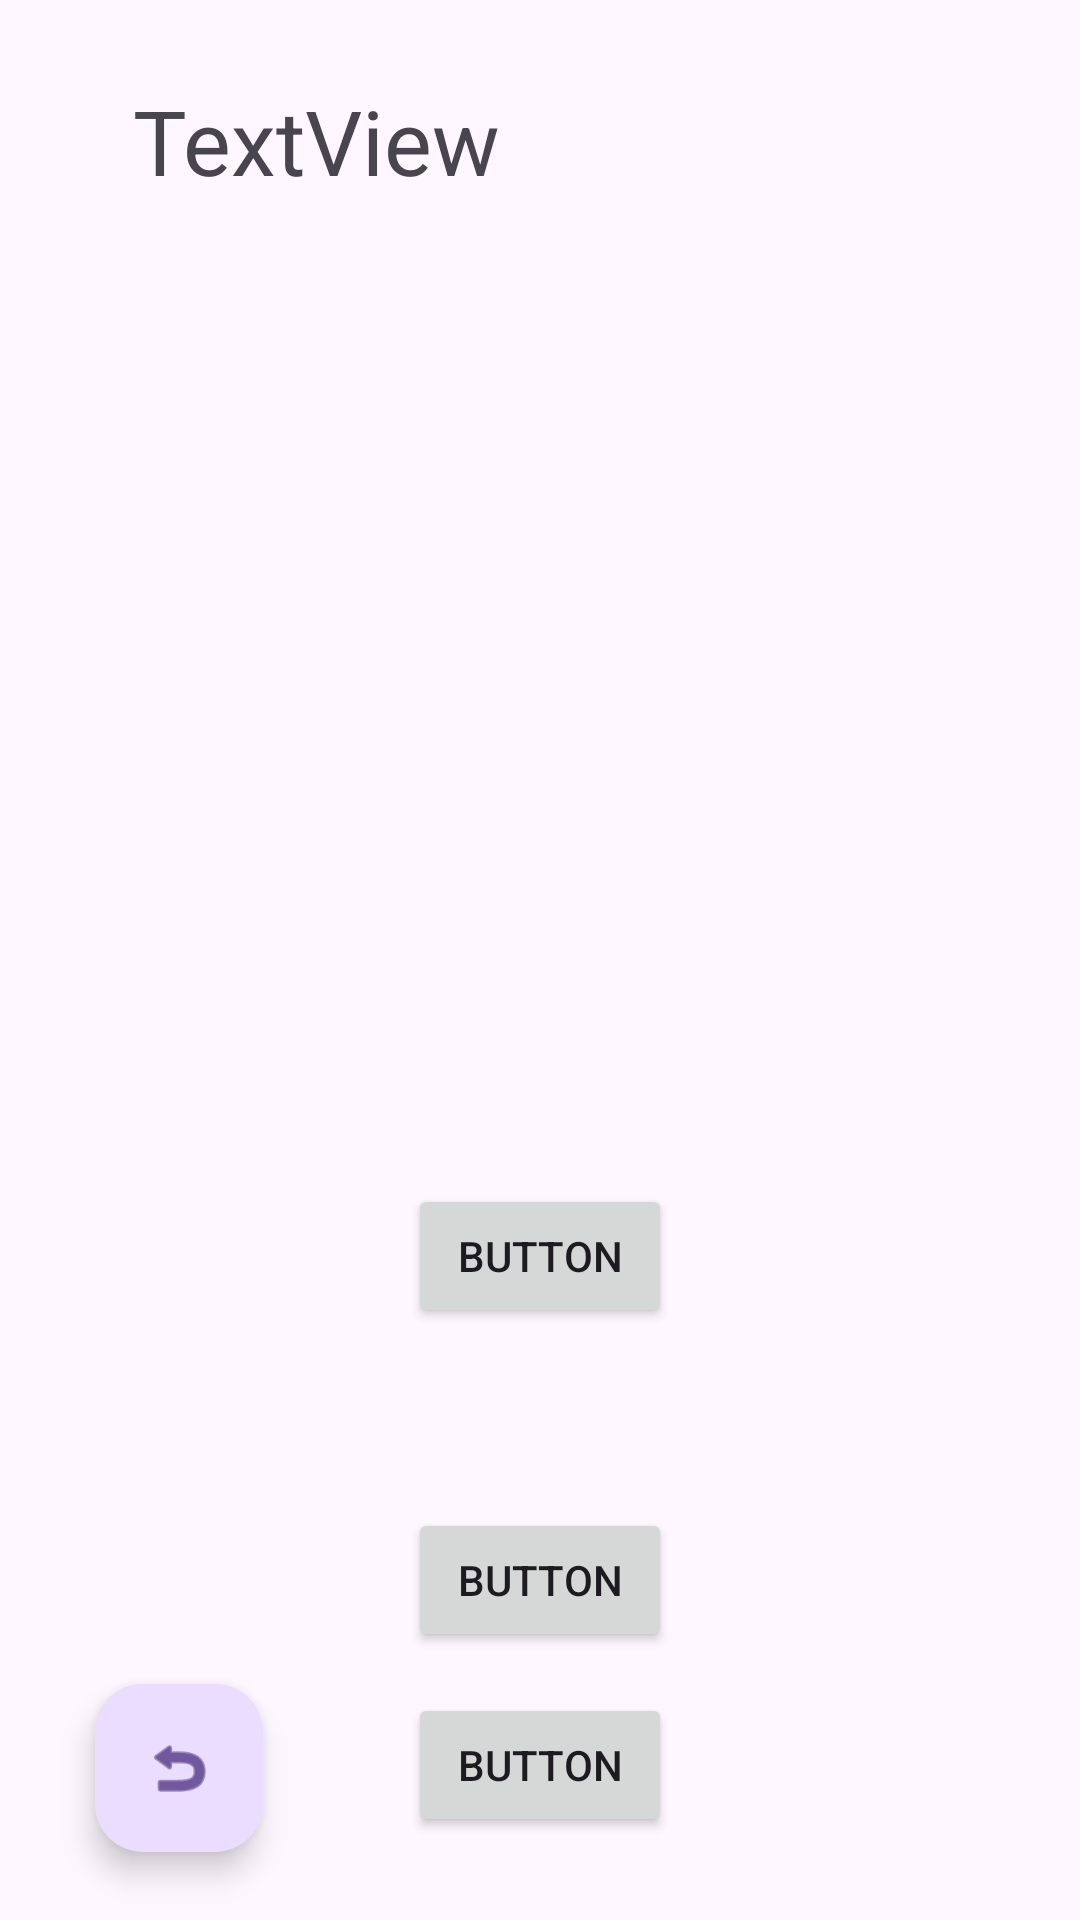

Screen size 1080×1920. Icon name, then its center in pixels as (x,y):
revert: (179,1768)
